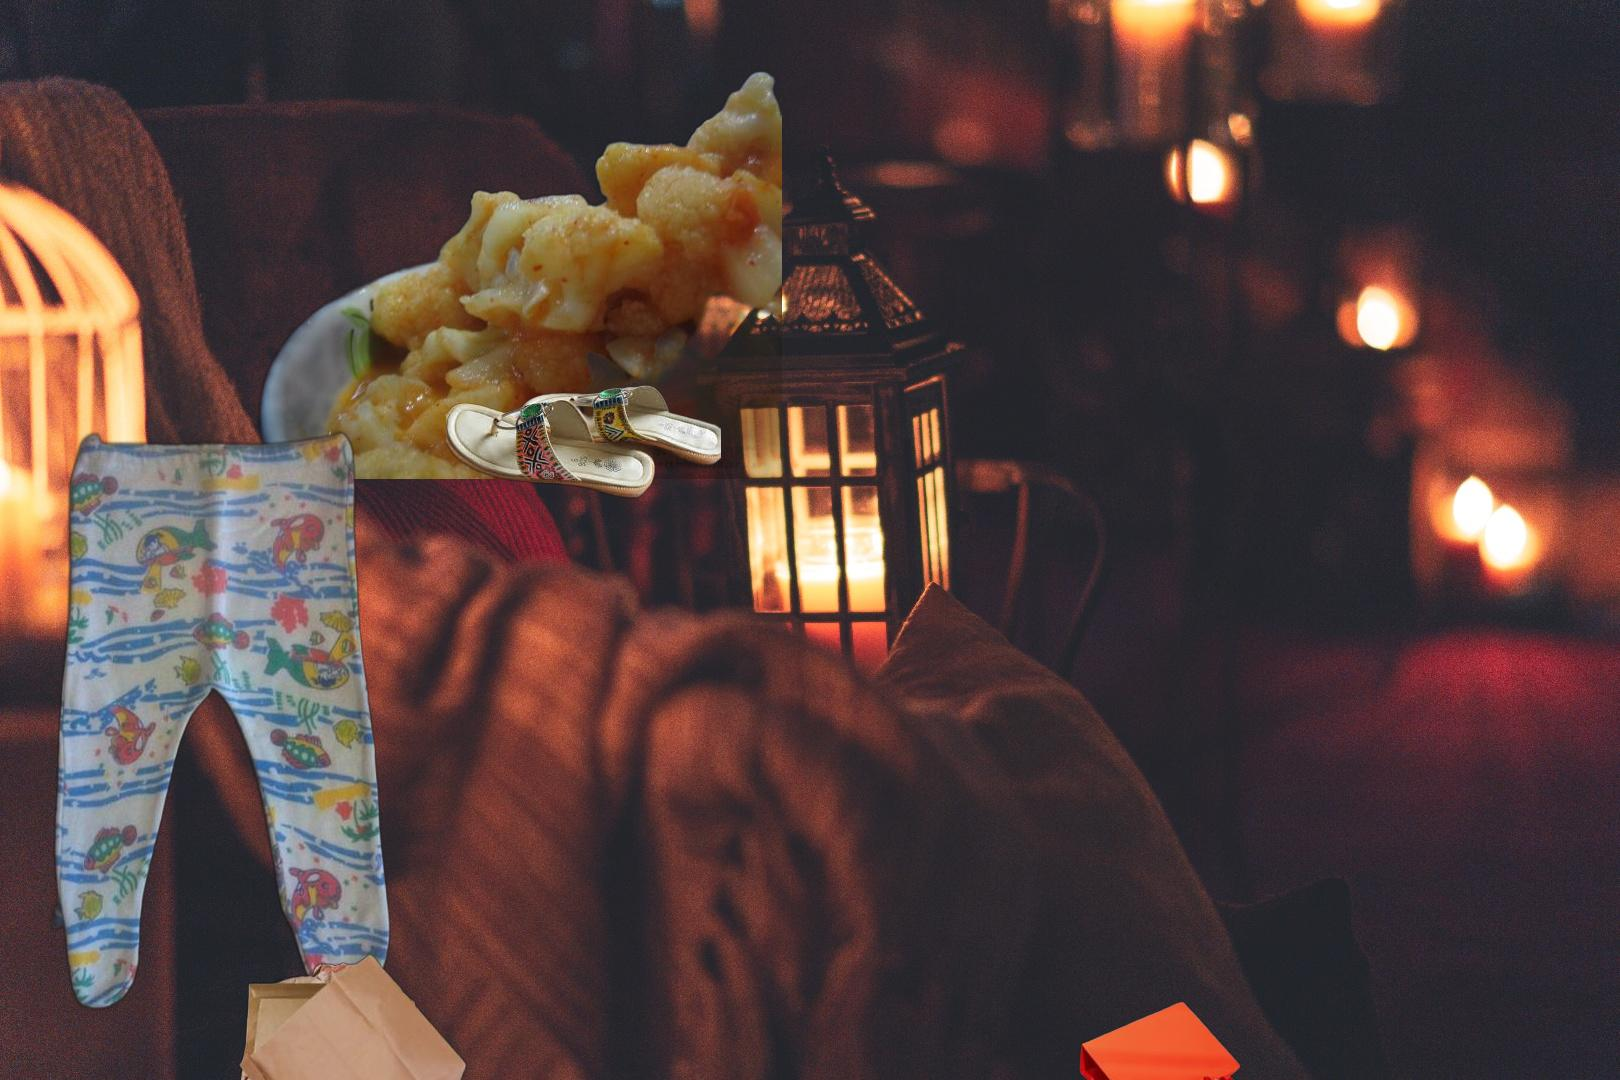biological: (231, 67, 782, 479)
clothes: (49, 427, 393, 1015)
paper-bag: (236, 951, 469, 1080), (1078, 999, 1243, 1080)
shoes: (446, 383, 721, 501)
